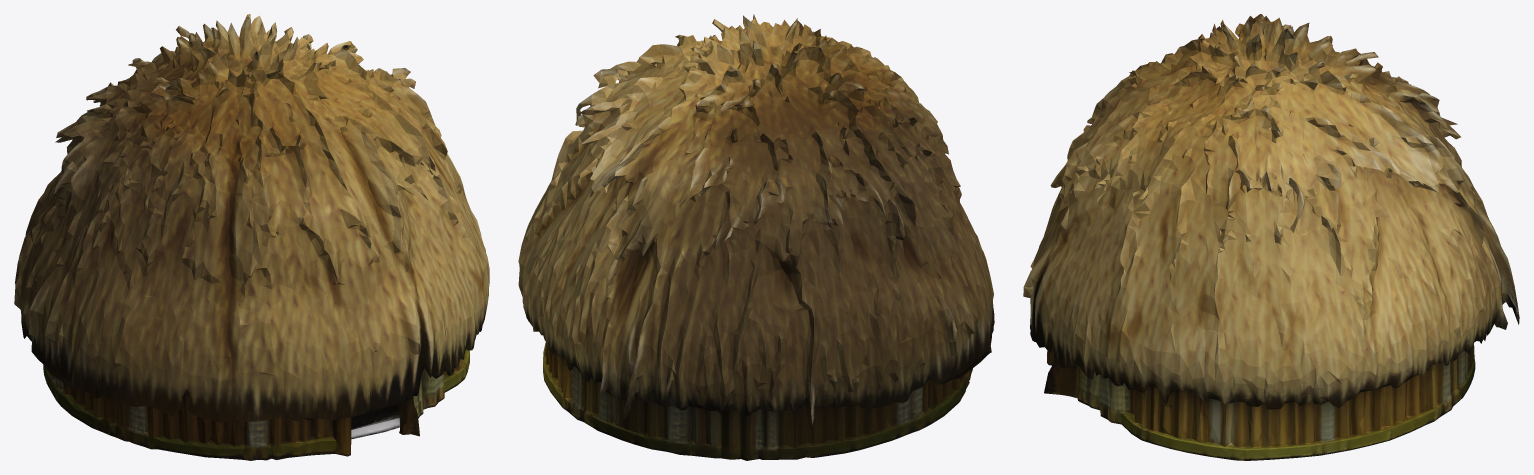
The model's file is papua.glb.
The picture shows the model from 3 angles, left to right: view 1: azimuth 30°, elevation 25°; view 2: azimuth 150°, elevation 25°; view 3: azimuth 270°, elevation 25°; orthographic projection.
Parts seen in each view (by area): view 1: world; view 2: world; view 3: world.
Boxes of the visible parts, bbox=[...] form: world: bbox=[14, 14, 489, 460]; world: bbox=[518, 14, 994, 460]; world: bbox=[1023, 14, 1519, 460].
Bounding box in the file's own units: 0.4393 × 0.3481 × 0.4511.
Materials: 1 (1 with a texture image).
